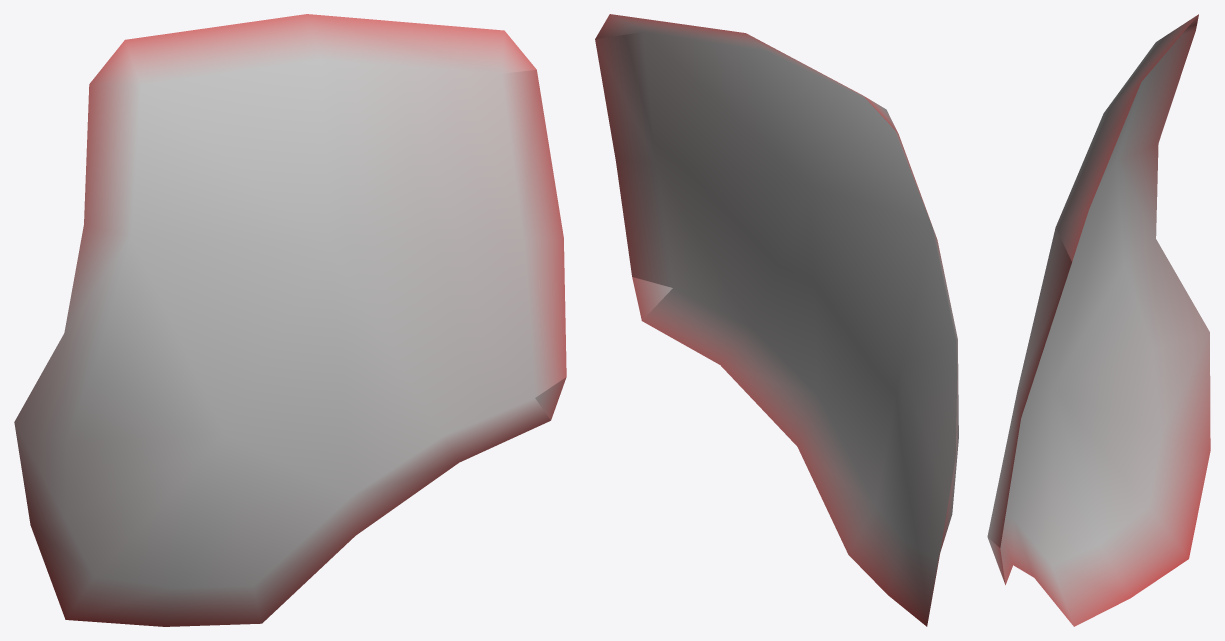
The model's file is SM_WEP_Eff_D73NJ3_C_02.glb.
The picture shows the model from 3 angles, left to right: view 1: azimuth 30°, elevation 25°; view 2: azimuth 150°, elevation 25°; view 3: azimuth 270°, elevation 25°; orthographic projection. The views are drawn at different scales.
Parts seen in each view (by area): view 1: SM_WEP_Eff_D73NJ3_C_02; view 2: SM_WEP_Eff_D73NJ3_C_02; view 3: SM_WEP_Eff_D73NJ3_C_02.
Boxes of the visible parts, x1,y1,x2,y2 form: SM_WEP_Eff_D73NJ3_C_02: [14, 14, 566, 626]; SM_WEP_Eff_D73NJ3_C_02: [595, 14, 958, 626]; SM_WEP_Eff_D73NJ3_C_02: [987, 14, 1210, 626].
Bounding box in the file's own units: 0.1094 × 0.1309 × 0.0449.
